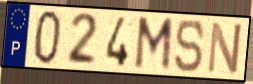0: (32, 9, 64, 67)
2: (67, 12, 100, 68)
4: (104, 15, 131, 69)
M: (132, 16, 175, 74)
N: (205, 19, 244, 76)
S: (174, 18, 206, 75)
